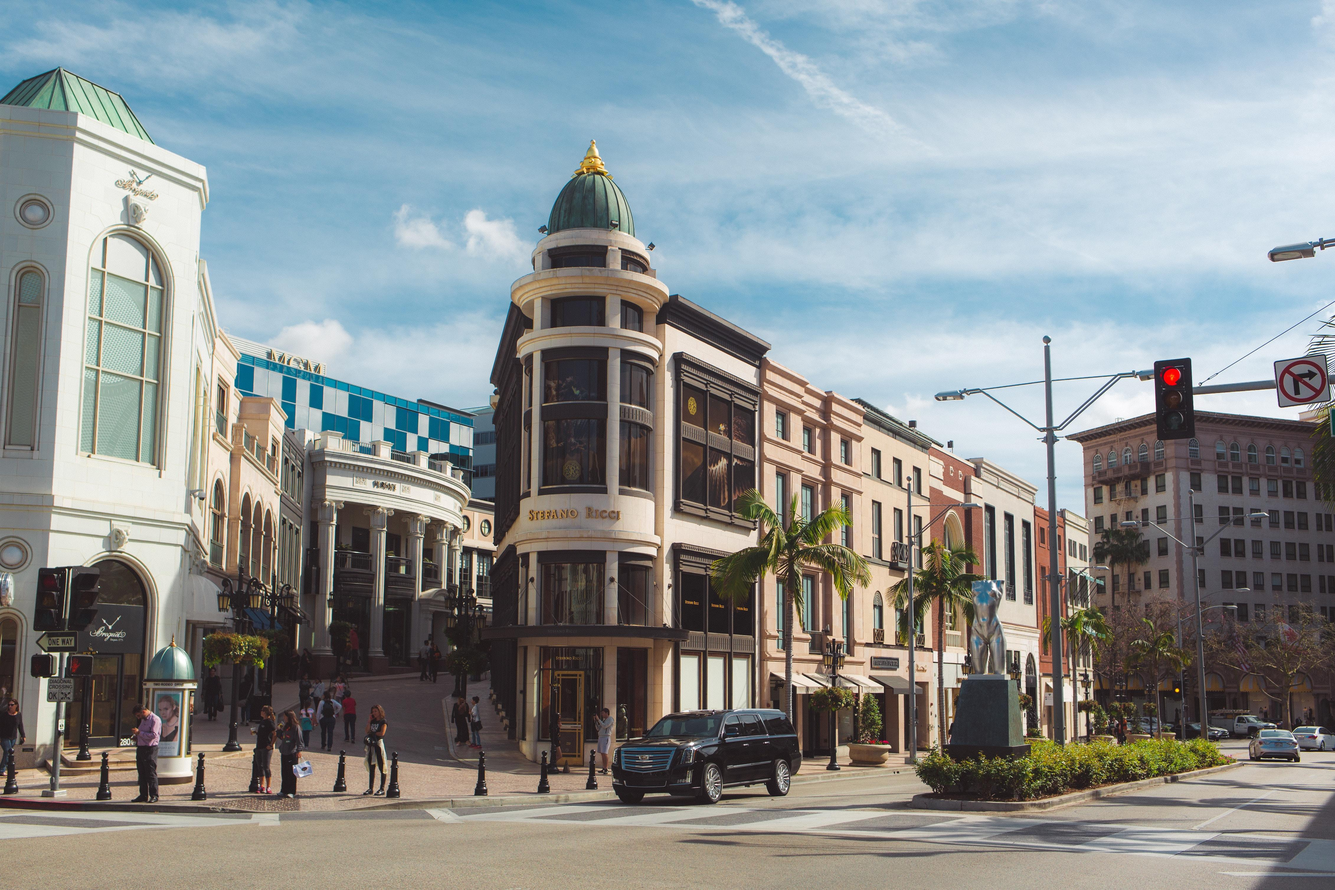red: (1139, 351, 1201, 454)
